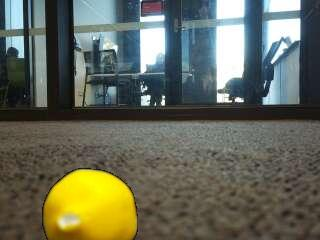lemon: (44, 169, 137, 240)
